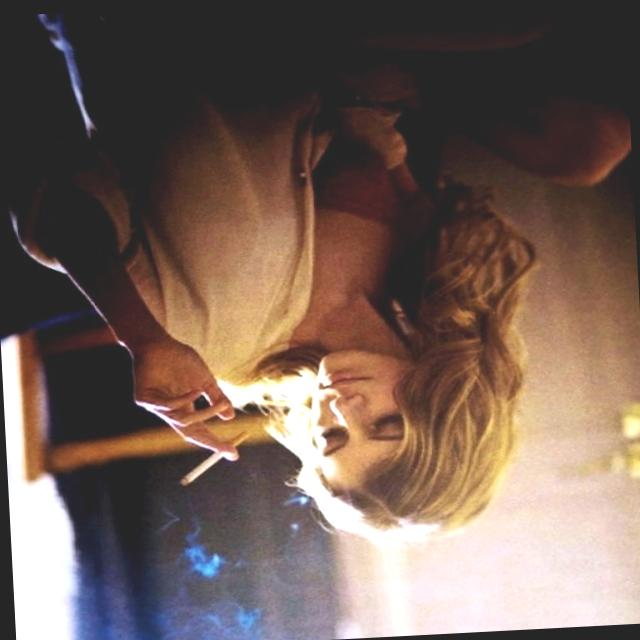smoke: (182, 425, 258, 490)
